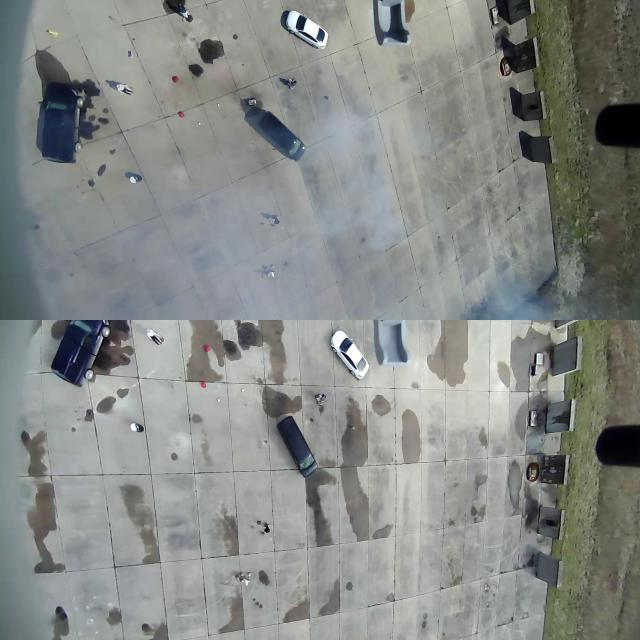car: (32, 70, 98, 178), (42, 321, 120, 398), (248, 110, 315, 163), (277, 413, 318, 477), (329, 328, 369, 379), (282, 9, 327, 48)
